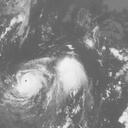cyclone: (6, 66, 47, 103), (55, 57, 88, 95)
